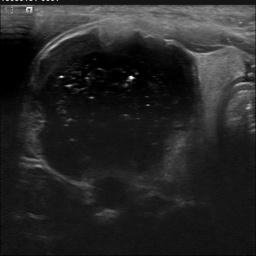mass: (32, 30, 200, 184)
